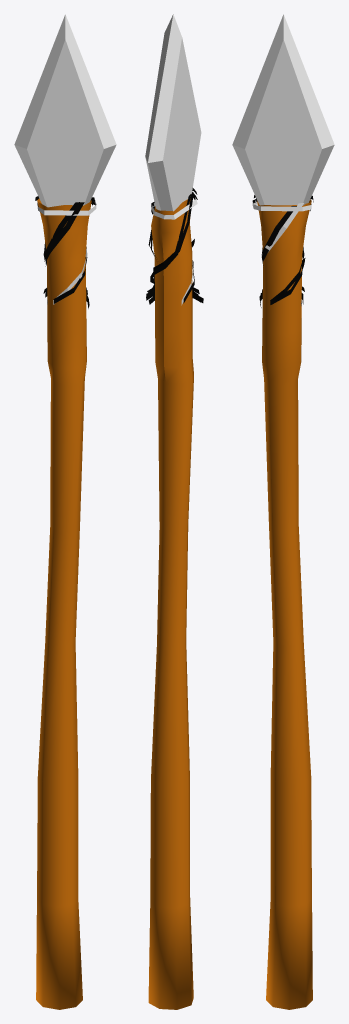
Rendered from spear.fbx.
3 renders of one model, left to right at view 1: azimuth 90°, elevation 25°; view 2: azimuth 150°, elevation 25°; view 3: azimuth 270°, elevation 25°, orthographic.
Parts seen in each view (by area): view 1: 円柱; view 2: 円柱; view 3: 円柱.
Boxes of the visible parts, x1,y1,x2,y2 form: 円柱: [14, 14, 116, 1009]; 円柱: [145, 14, 203, 1009]; 円柱: [232, 14, 334, 1009].
Bounding box in the file's own units: 56.48 × 1271 × 120.
